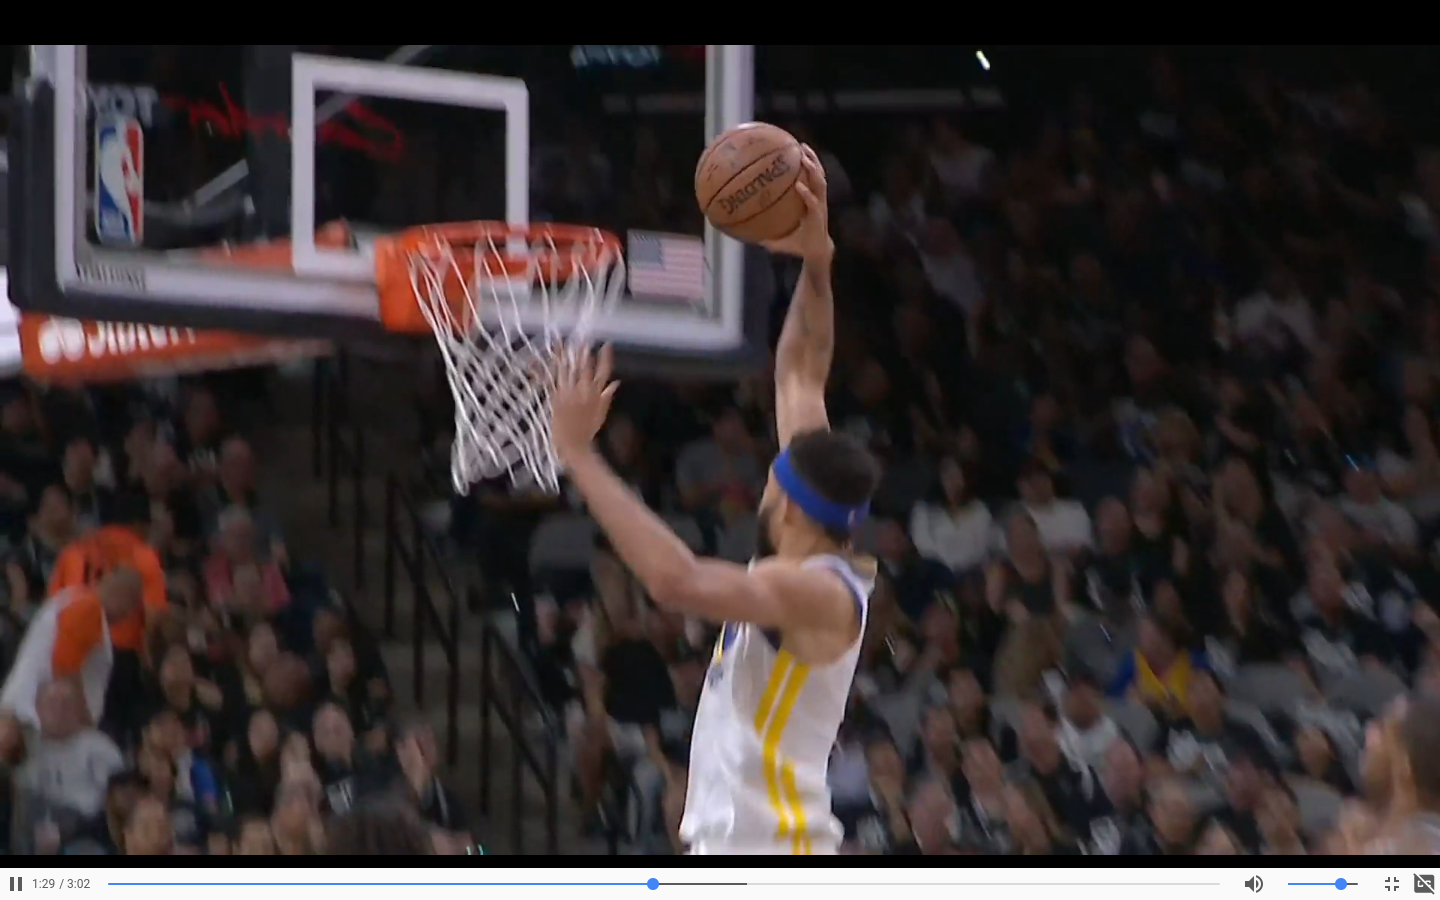basketball: (682, 119, 824, 249)
basketball player: (542, 259, 893, 851)
